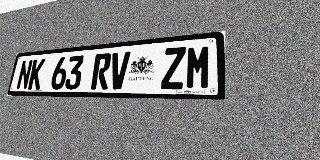3: (64, 55, 84, 89)
6: (50, 56, 69, 89)
K: (27, 58, 45, 90)
M: (185, 44, 211, 89)
N: (16, 60, 33, 90)
R: (90, 53, 112, 89)
V: (108, 51, 130, 89)
Z: (161, 47, 186, 89)
